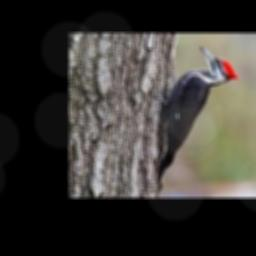Woodpecker: (154, 45, 239, 189)
